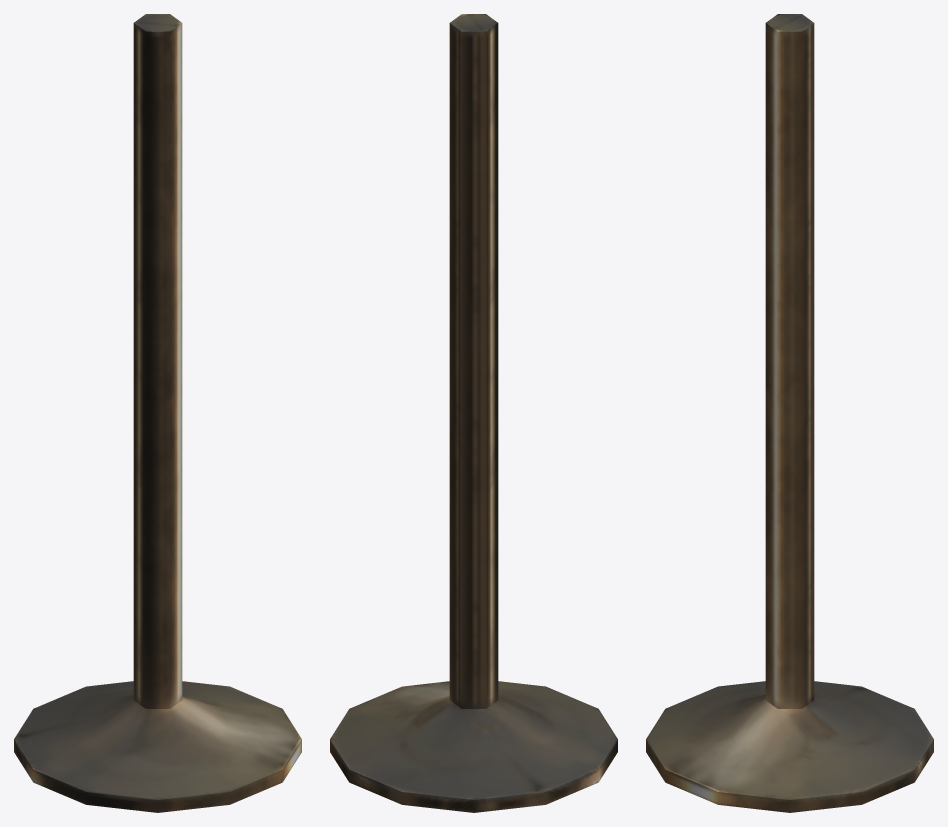
The model's file is Corde_02.fbx.
3 views of the same model, side by side, from view 1: azimuth 30°, elevation 25°; view 2: azimuth 150°, elevation 25°; view 3: azimuth 270°, elevation 25° (orthographic).
Visible parts, largest first — view 1: Corde_02; view 2: Corde_02; view 3: Corde_02.
Part boxes in pixels (<box>): Corde_02: <box>14,14,301,812</box>; Corde_02: <box>330,14,617,812</box>; Corde_02: <box>646,14,933,812</box>.
Size of the model in its own units: 0.3809 by 1.06 by 0.3809.
